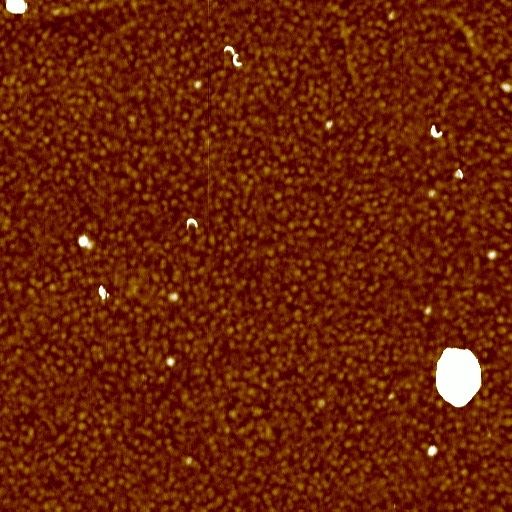-1: (433, 344, 485, 409), (3, 1, 31, 15), (73, 234, 93, 250), (95, 283, 110, 301), (428, 444, 441, 458), (454, 167, 466, 180)
2/4: (428, 121, 446, 138), (221, 40, 237, 57), (231, 52, 245, 71), (185, 216, 200, 231)
